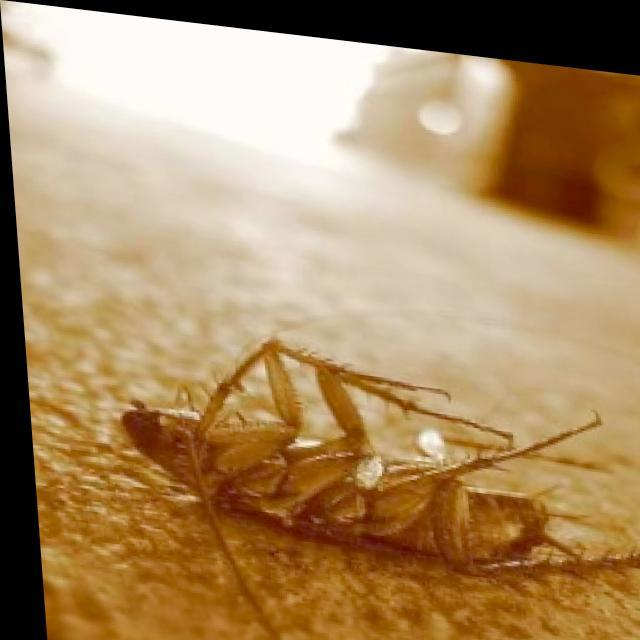cockroach: (117, 331, 619, 635)
